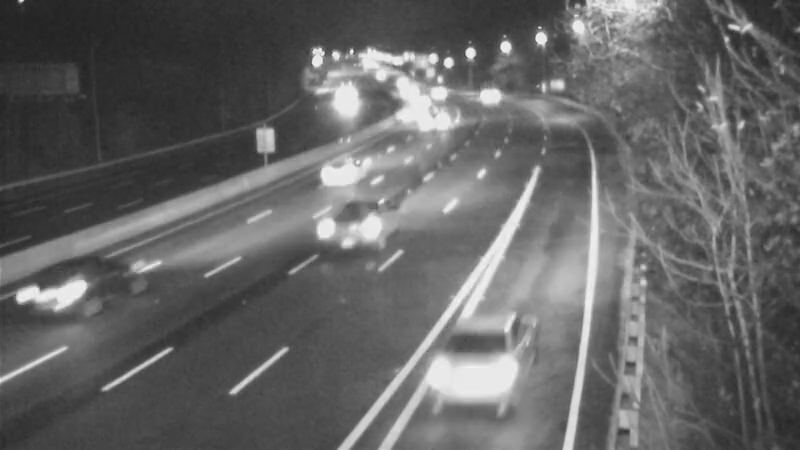vehicle: (414, 320, 524, 430), (309, 130, 389, 210), (321, 184, 401, 264), (24, 252, 104, 332), (376, 59, 426, 109), (469, 70, 519, 120), (412, 66, 462, 116), (384, 70, 434, 120), (393, 79, 443, 129), (384, 89, 434, 139), (410, 101, 460, 151), (316, 72, 366, 122)
